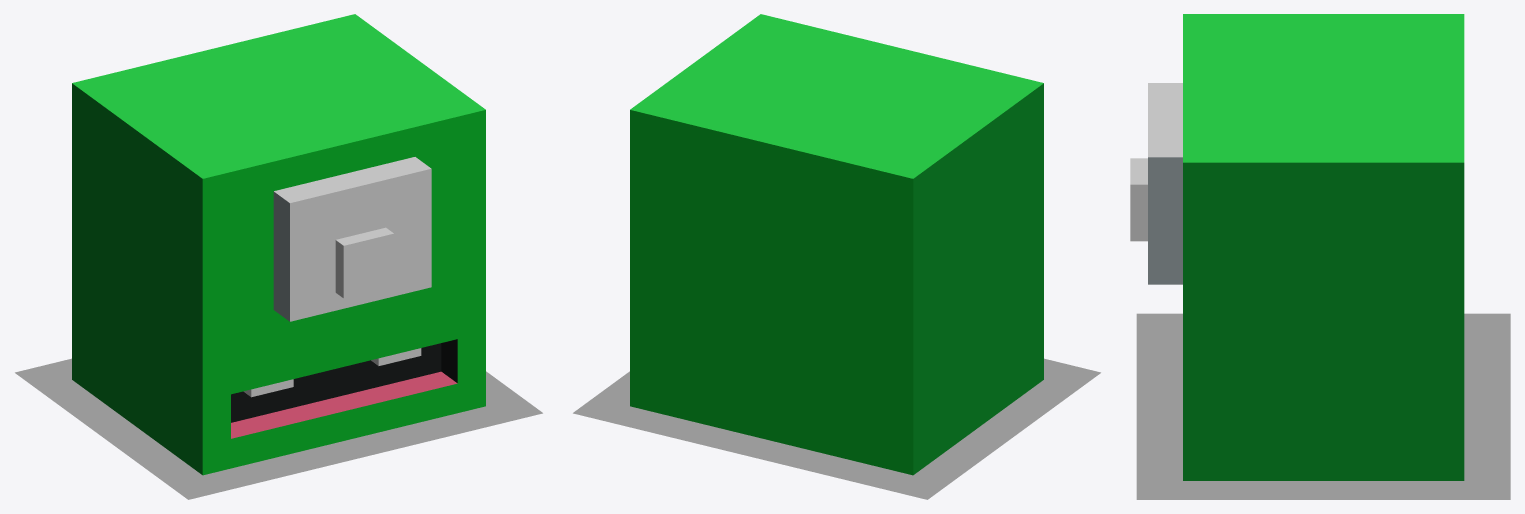
Rendered from EN_MrBit_Green.fbx.
3 views of the same model, side by side, from view 1: azimuth 30°, elevation 25°; view 2: azimuth 150°, elevation 25°; view 3: azimuth 270°, elevation 25° (orthographic). The views are drawn at different scales.
Parts seen in each view (by area): view 1: Body, Eye, Shadow, Mouth, Pupil; view 2: Body, Shadow; view 3: Body, Shadow, Eye, Pupil.
Part boxes in pixels (x1=…): Body: x1=72, y1=14, x2=485, y2=475; Eye: x1=273, y1=157, x2=431, y2=321; Shadow: x1=15, y1=358, x2=542, y2=499; Mouth: x1=231, y1=371, x2=457, y2=468; Pupil: x1=335, y1=227, x2=393, y2=298; Body: x1=630, y1=14, x2=1043, y2=475; Shadow: x1=573, y1=358, x2=1100, y2=499; Body: x1=1183, y1=14, x2=1464, y2=480; Shadow: x1=1136, y1=313, x2=1510, y2=499; Eye: x1=1148, y1=83, x2=1182, y2=284; Pupil: x1=1130, y1=158, x2=1147, y2=241.
Size of the model in its own units: 62.68 by 50 by 54.09.
